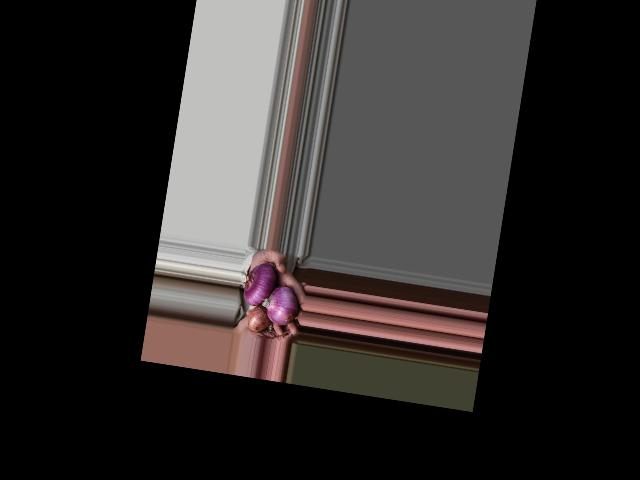onion: (243, 261, 276, 306)
